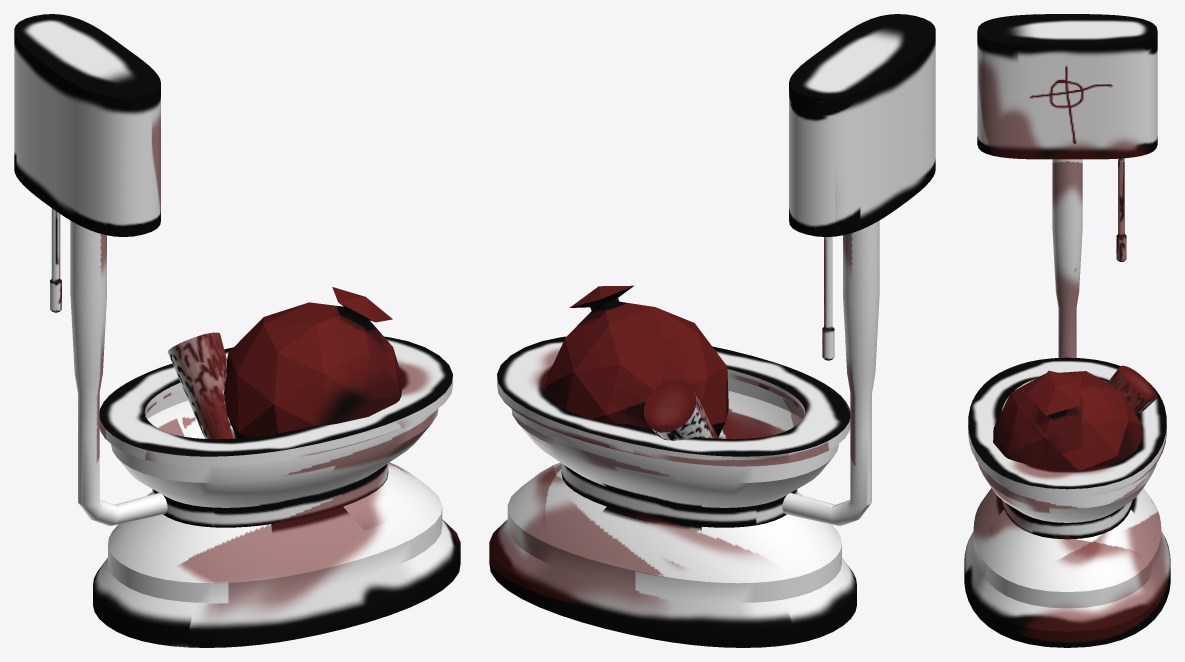
The model's file is dunny.fbx.
3 renders of one model, left to right at view 1: azimuth 30°, elevation 25°; view 2: azimuth 150°, elevation 25°; view 3: azimuth 270°, elevation 25°, orthographic. The views are drawn at different scales.
Parts seen in each view (by area): view 1: BezierCircle.001; view 2: BezierCircle.001; view 3: BezierCircle.001.
Boxes of the visible parts, x1,y1,x2,y2 form: BezierCircle.001: (14,14,460,647); BezierCircle.001: (489,14,935,647); BezierCircle.001: (964,14,1170,647).
Size of the model in its own units: 211 by 290 by 115.
